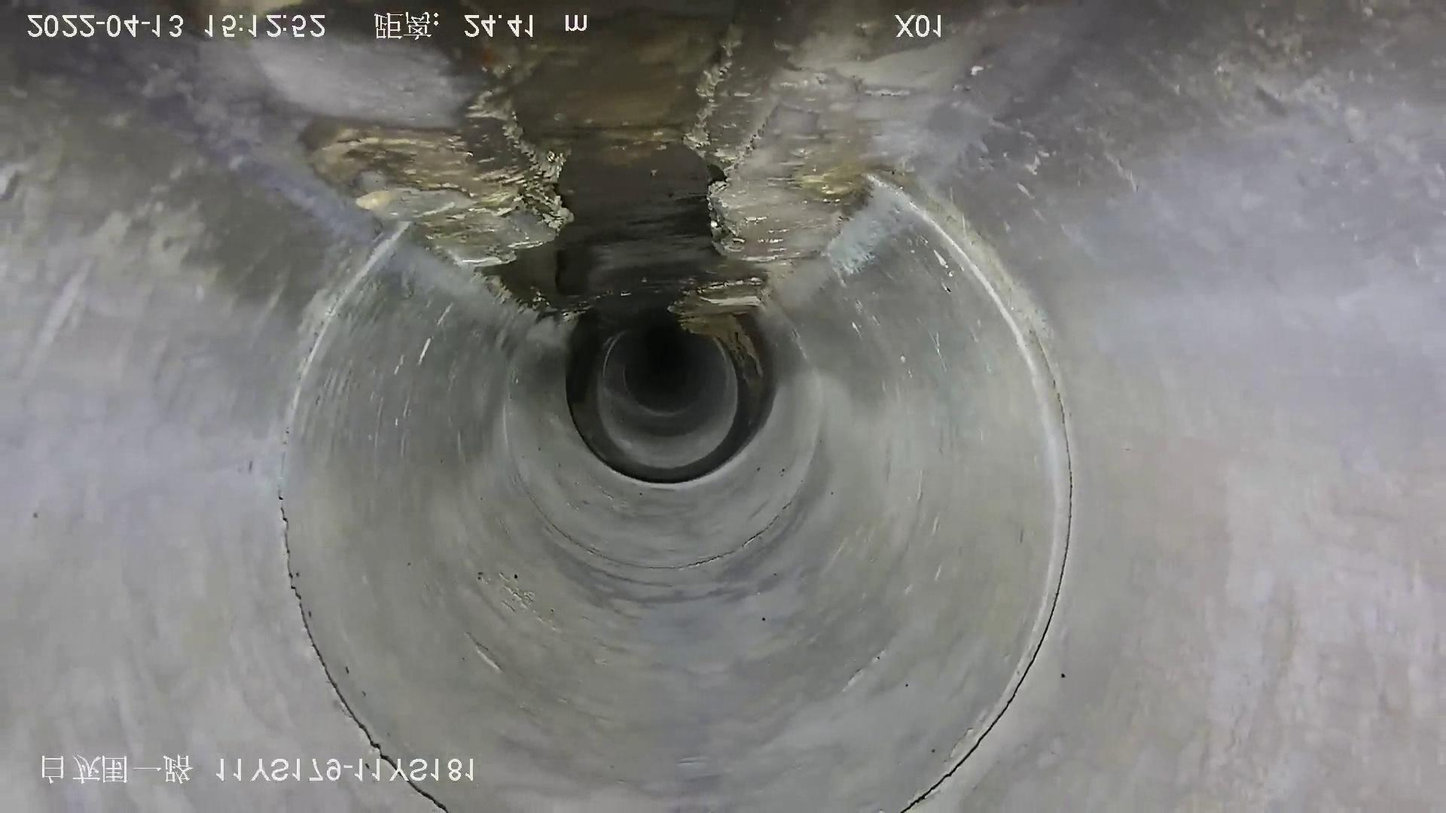CKTJ: (850, 159, 1082, 809), (265, 206, 466, 812)
JG: (203, 1, 571, 267), (685, 1, 1033, 273)
